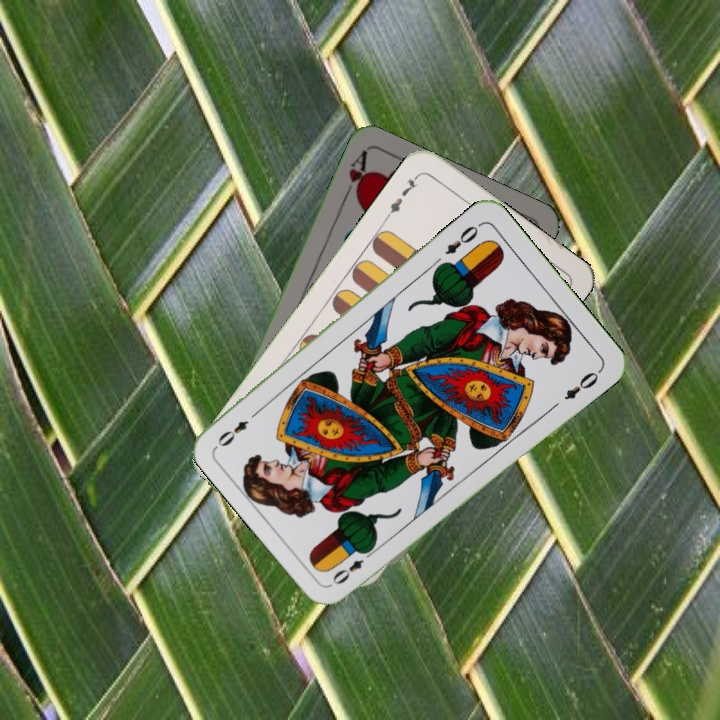E7: (381, 170, 422, 221)
EO: (328, 545, 378, 588), (441, 219, 484, 258)
HA: (338, 148, 371, 204)
